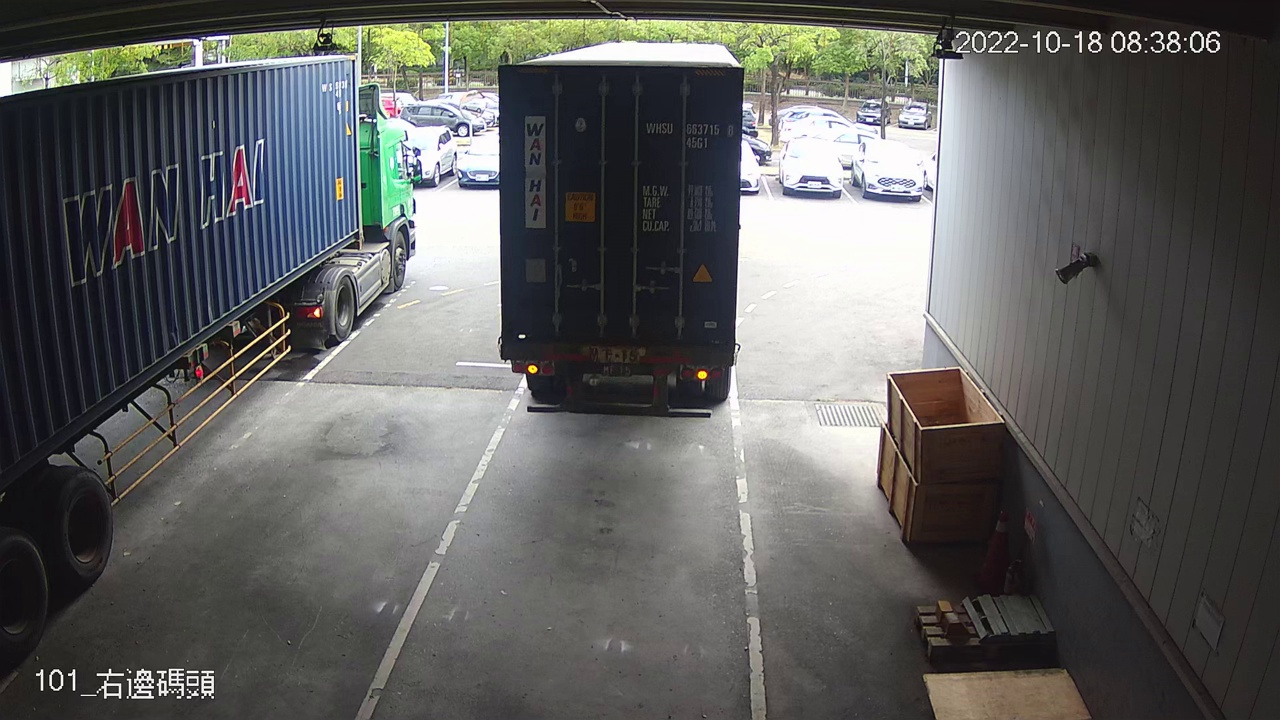container: (643, 117, 737, 152)
